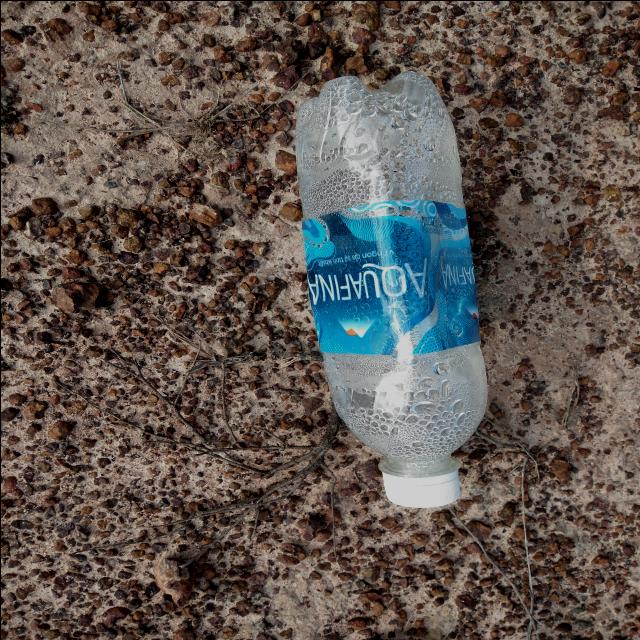Clear plastic bottle: (295, 70, 487, 507)
Plastic bottle cap: (382, 476, 460, 507)
